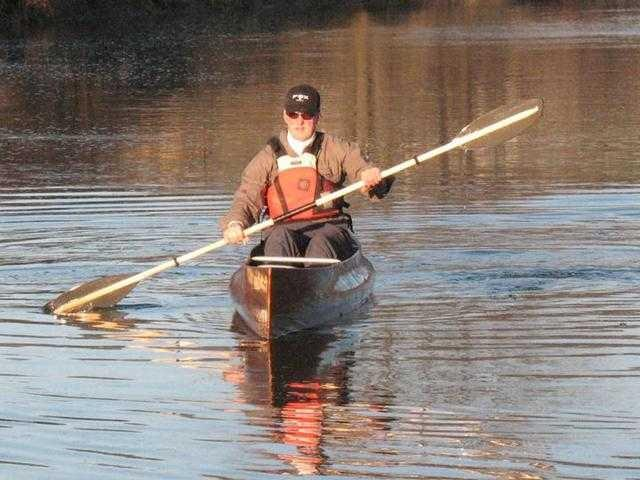kayak: (228, 233, 375, 335)
